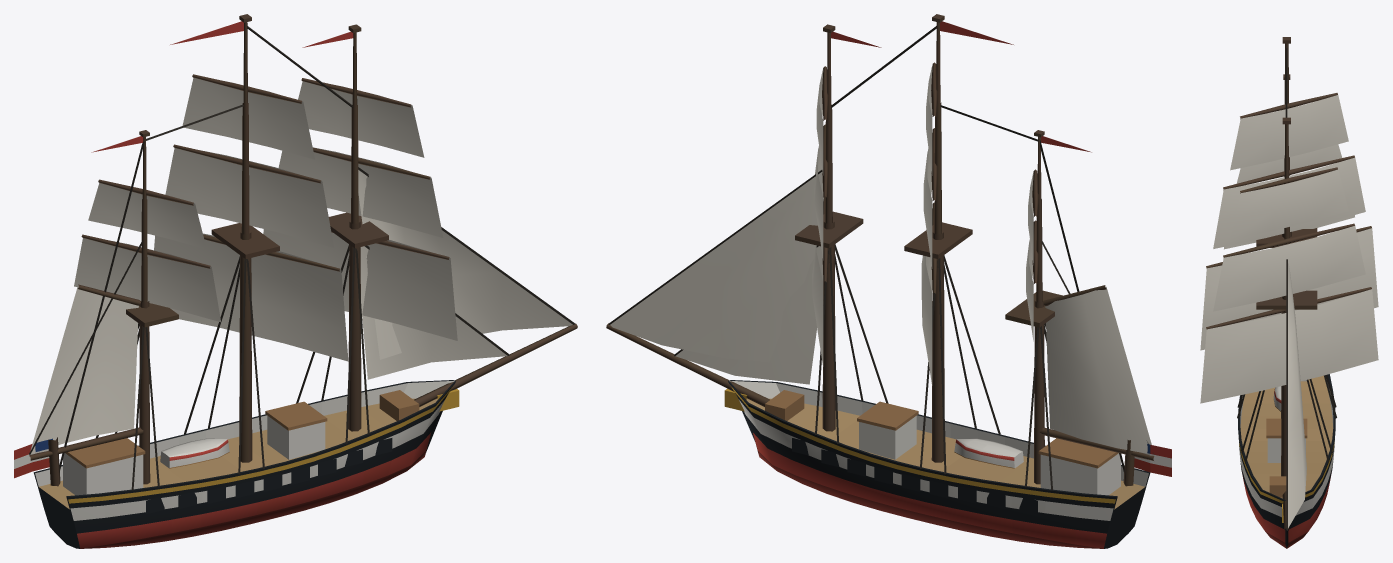
Rendered from hull_usd_ship_flagship.glb.
The picture shows the model from 3 angles, left to right: view 1: azimuth 30°, elevation 25°; view 2: azimuth 150°, elevation 25°; view 3: azimuth 270°, elevation 25°; orthographic projection. The views are drawn at different scales.
Visible parts, largest first — view 1: sail_extra, hull, mast, sail_jib, sail_main, sail_spanker, deck, rigging, yards, flag, boom_spar; view 2: hull, sail_jib, mast, sail_spanker, deck, rigging, sail_extra, yards, flag, sail_main, boom_spar; view 3: sail_extra, hull, sail_main, sail_jib, yards, mast, rigging, deck.
Part boxes in pixels (box(x1,y1,x2,y2)): sail_extra: box(74, 77, 457, 340); hull: box(33, 380, 459, 548); mast: box(48, 14, 577, 486); sail_jib: box(358, 170, 572, 379); sail_main: box(154, 233, 348, 361); sail_spanker: box(30, 287, 138, 454); deck: box(63, 390, 419, 495); rigging: box(59, 26, 575, 490); yards: box(81, 74, 449, 271); flag: box(14, 21, 353, 478); boom_spar: box(29, 240, 143, 460); hull: box(724, 380, 1150, 548); sail_jib: box(610, 172, 823, 384); mast: box(606, 14, 1134, 486); sail_spanker: box(1045, 287, 1151, 453); deck: box(765, 390, 1120, 495); rigging: box(608, 25, 1124, 490); sail_extra: box(812, 65, 1033, 366); yards: box(822, 62, 1038, 293); flag: box(831, 21, 1171, 476); sail_main: box(921, 255, 932, 385); boom_spar: box(1039, 240, 1154, 460); sail_extra: box(1200, 95, 1378, 403); hull: box(1238, 374, 1335, 548); sail_main: box(1200, 228, 1378, 350); sail_jib: box(1288, 263, 1306, 527); yards: box(1206, 93, 1371, 329); mast: box(1256, 37, 1317, 529); rigging: box(1237, 48, 1336, 530); deck: box(1266, 380, 1307, 497).
Bounding box in the file's own units: 41.82 × 35.68 × 12.82.
